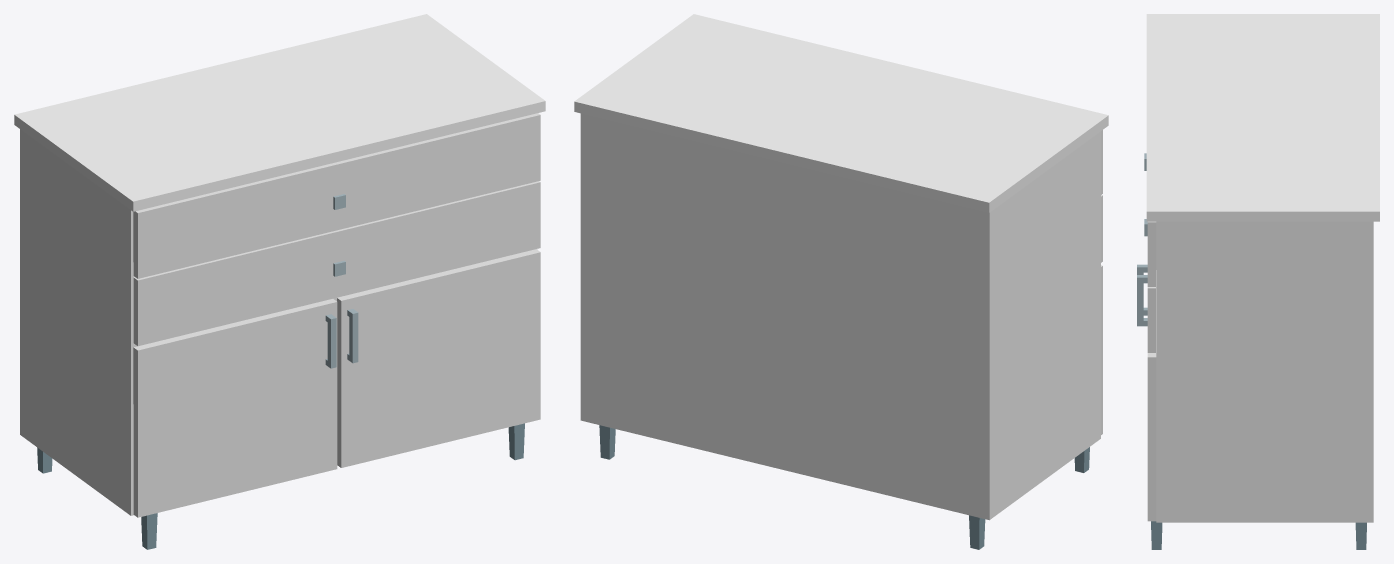
File: kitchen_item_059.glb
3 renders of one model, left to right at view 1: azimuth 30°, elevation 25°; view 2: azimuth 150°, elevation 25°; view 3: azimuth 270°, elevation 25°, orthographic. The views are drawn at different scales.
Visible parts, largest first — view 1: kitchen_item_059; view 2: kitchen_item_059; view 3: kitchen_item_059.
Part boxes in pixels (x1,y1,x2,y2): kitchen_item_059: [14, 14, 545, 549]; kitchen_item_059: [574, 14, 1108, 549]; kitchen_item_059: [1137, 14, 1379, 549].
Size of the model in its own units: 1.27 by 1.04 by 0.6604.
Materials: 1 (1 with a texture image).
